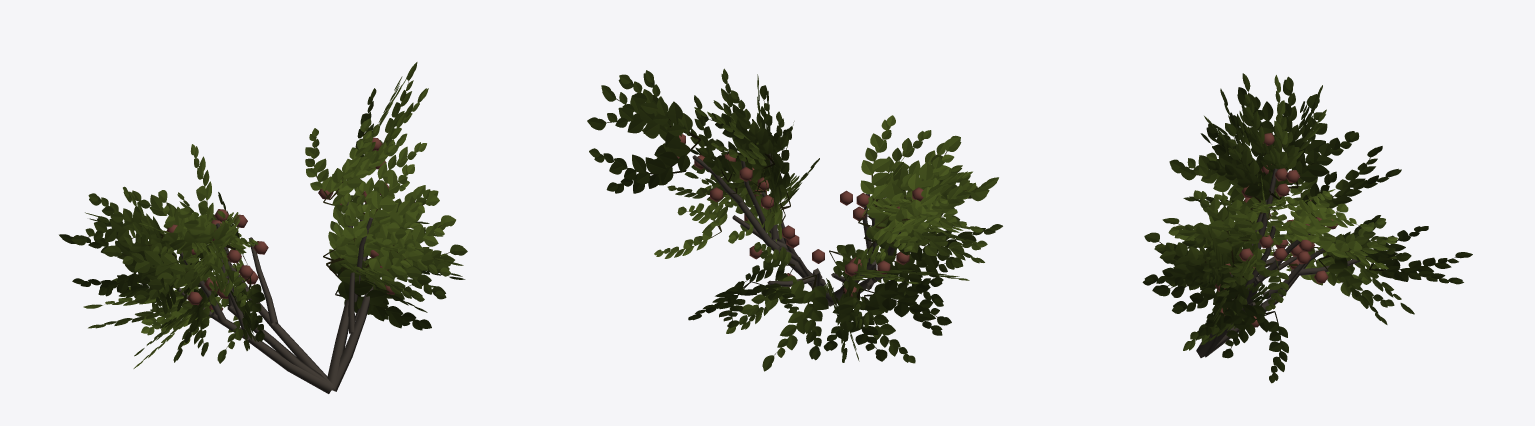
File: berry_bush_1_burnt2.glb
3 renders of one model, left to right at view 1: azimuth 30°, elevation 25°; view 2: azimuth 150°, elevation 25°; view 3: azimuth 270°, elevation 25°, orthographic. The views are drawn at different scales.
Parts seen in each view (by area): view 1: berry_bush_1_burnt2; view 2: berry_bush_1_burnt2; view 3: berry_bush_1_burnt2.
Boxes of the visible parts, <box> form: berry_bush_1_burnt2: <box>59,62,467,393</box>; berry_bush_1_burnt2: <box>587,68,1002,371</box>; berry_bush_1_burnt2: <box>1142,73,1472,383</box>.
Size of the model in its own units: 2.57 by 1.65 by 2.3.
3 materials, 1 textured.
